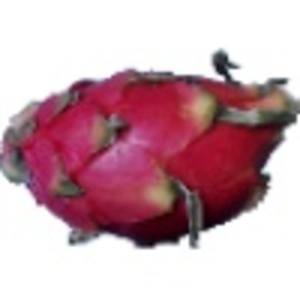pitaia: (1, 48, 300, 249)
